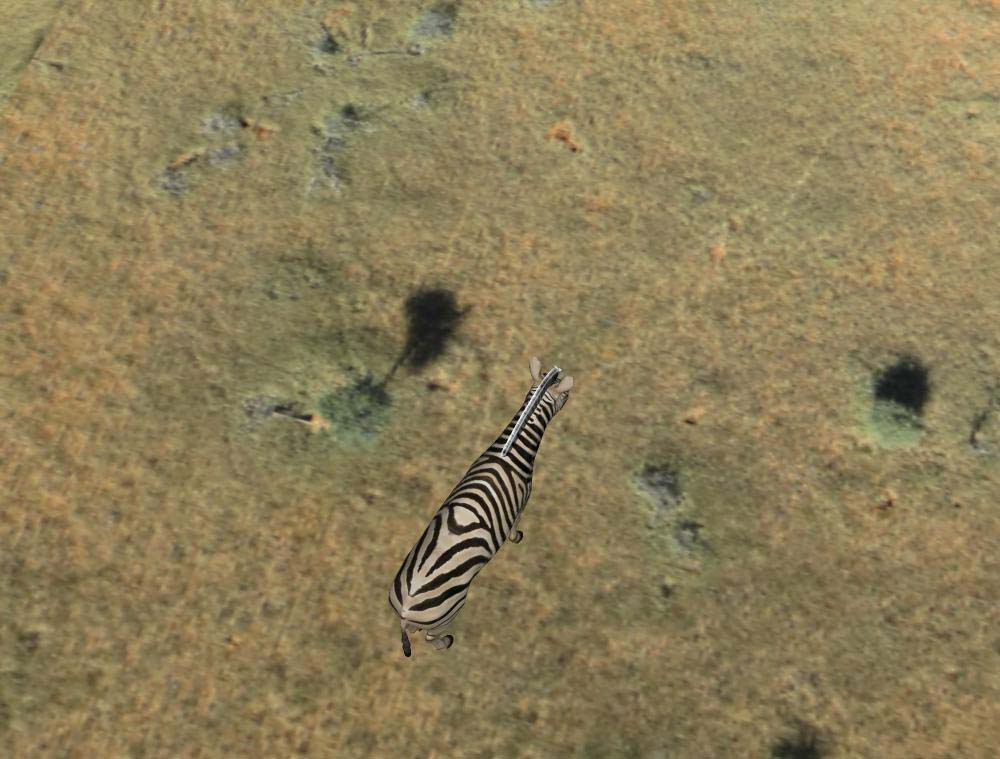zebra: (388, 356, 575, 662)
